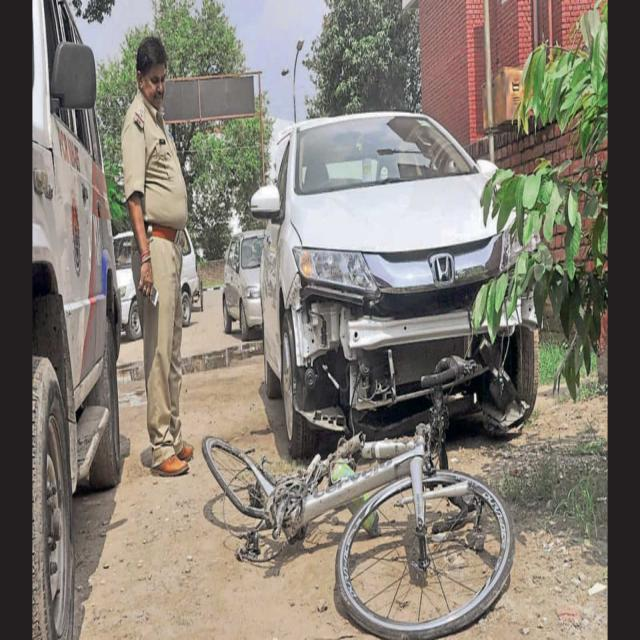accident: (251, 113, 538, 456), (202, 429, 515, 638)
car: (222, 229, 264, 340)
